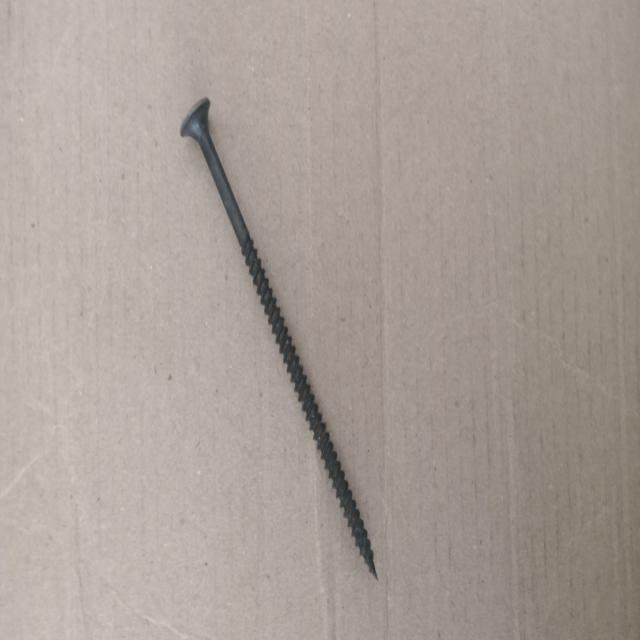screw: (180, 97, 380, 584)
